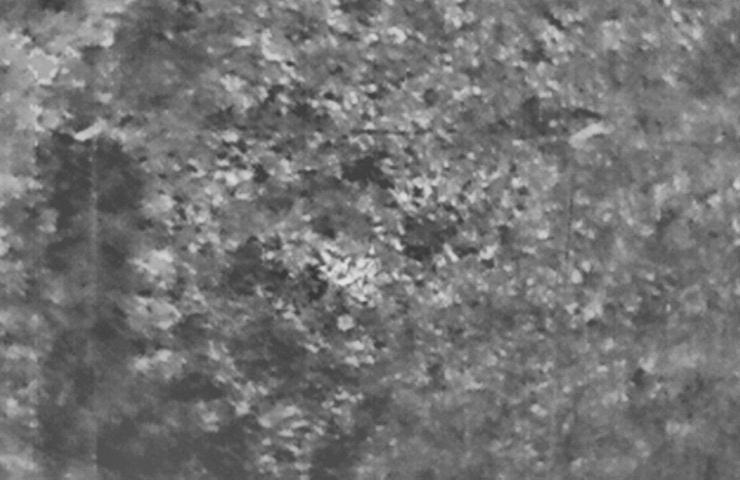landmines: (323, 247, 385, 299)
